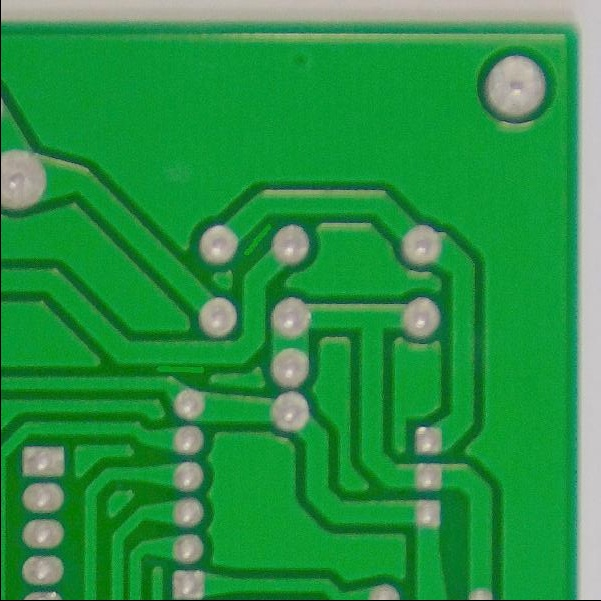spurious_copper: (240, 214, 279, 259), (150, 357, 211, 384)
